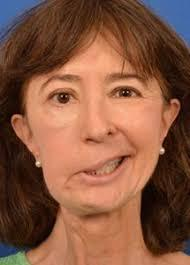strokeEyeMid: (31, 65, 153, 112)
strokeMouthSevere: (53, 145, 139, 193)
